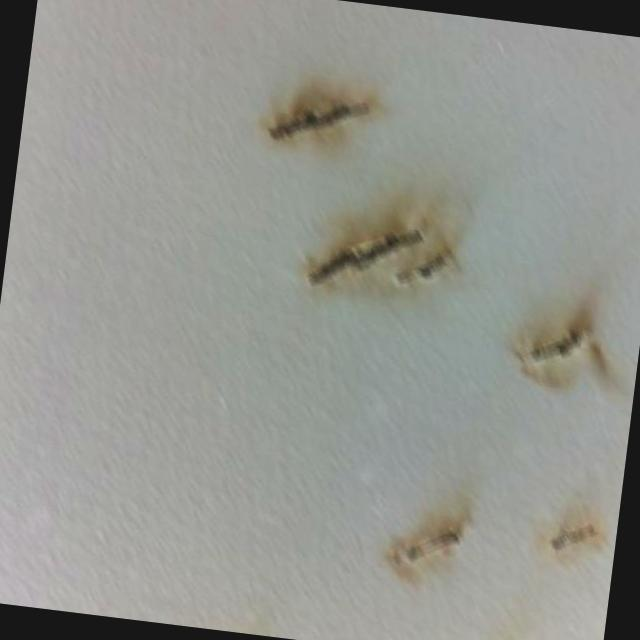crack: (318, 221, 424, 290), (278, 94, 368, 149), (526, 325, 592, 371), (400, 530, 458, 569), (402, 253, 448, 289), (556, 522, 598, 556)
